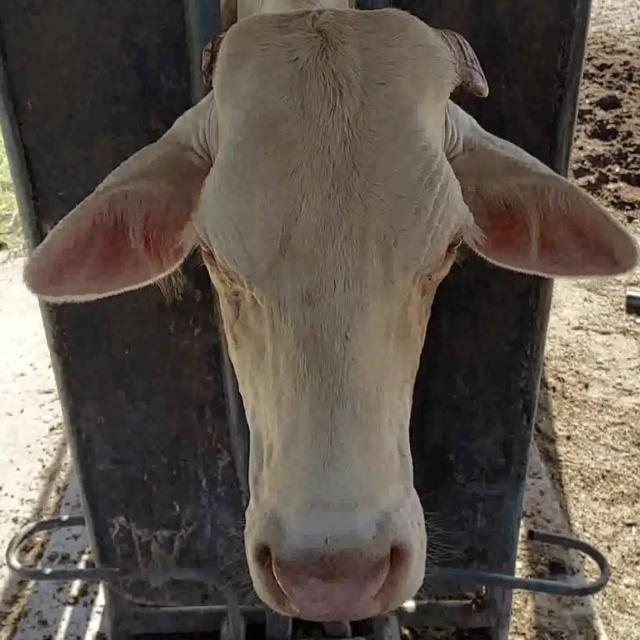cowFace: (190, 12, 461, 612)
